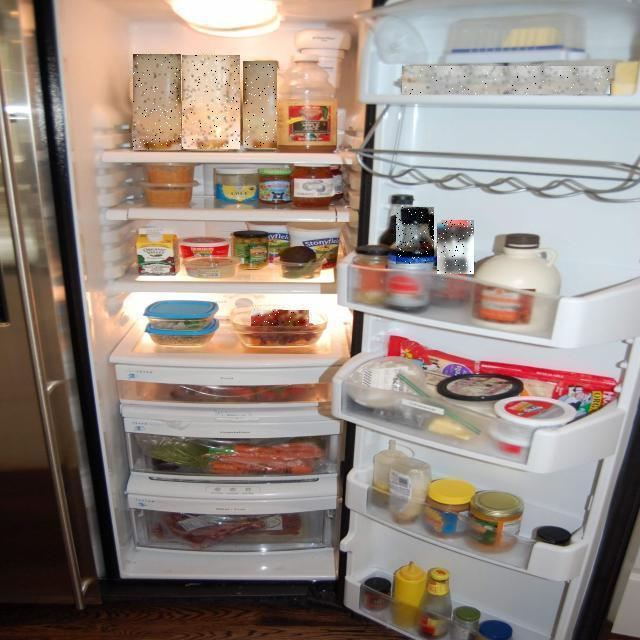egg: (97, 47, 640, 141)
milk: (105, 74, 382, 222), (62, 74, 302, 224), (42, 75, 224, 225)
